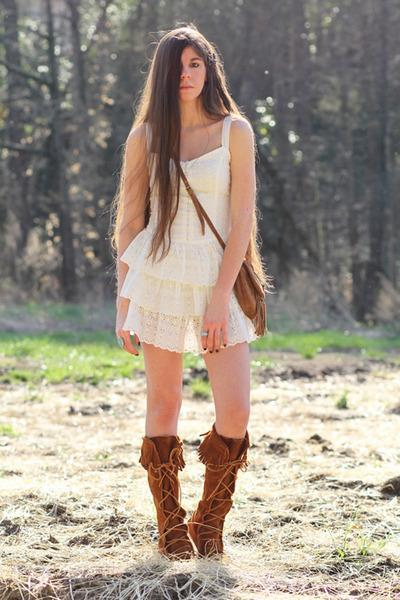bag: (233, 261, 281, 335)
dress: (117, 139, 258, 355)
shoe: (139, 424, 259, 559)
